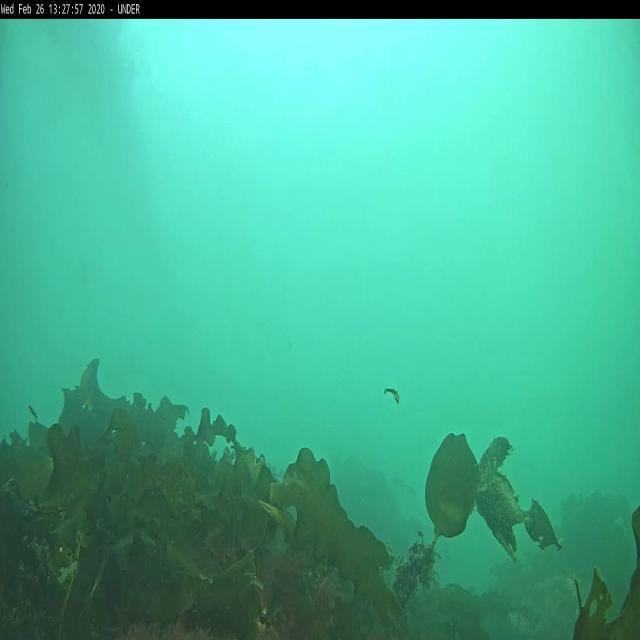fish: (384, 386, 400, 404), (27, 400, 40, 420)
